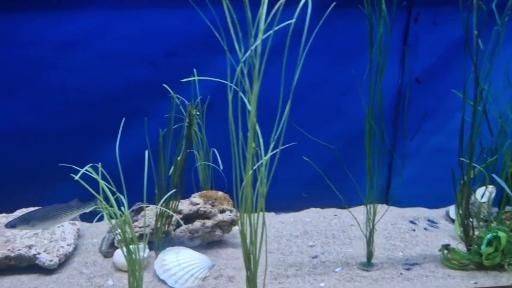Fish: (5, 200, 97, 230)
